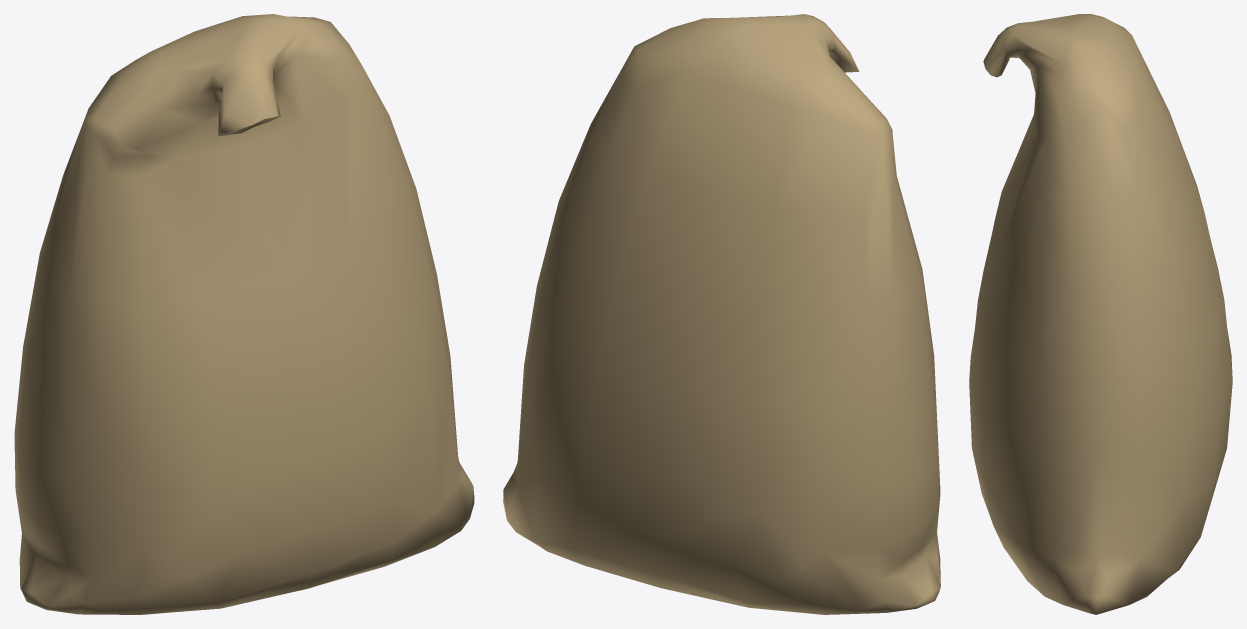
Rendered from sack.fbx.
3 renders of one model, left to right at view 1: azimuth 30°, elevation 25°; view 2: azimuth 150°, elevation 25°; view 3: azimuth 270°, elevation 25°, orthographic. The views are drawn at different scales.
Parts seen in each view (by area): view 1: Sack; view 2: Sack; view 3: Sack.
Part boxes in pixels (x1,y1,x2,y2): Sack: (14, 14, 474, 614); Sack: (503, 14, 940, 614); Sack: (969, 14, 1232, 614).
Size of the model in its own units: 131 by 156 by 75.62.
